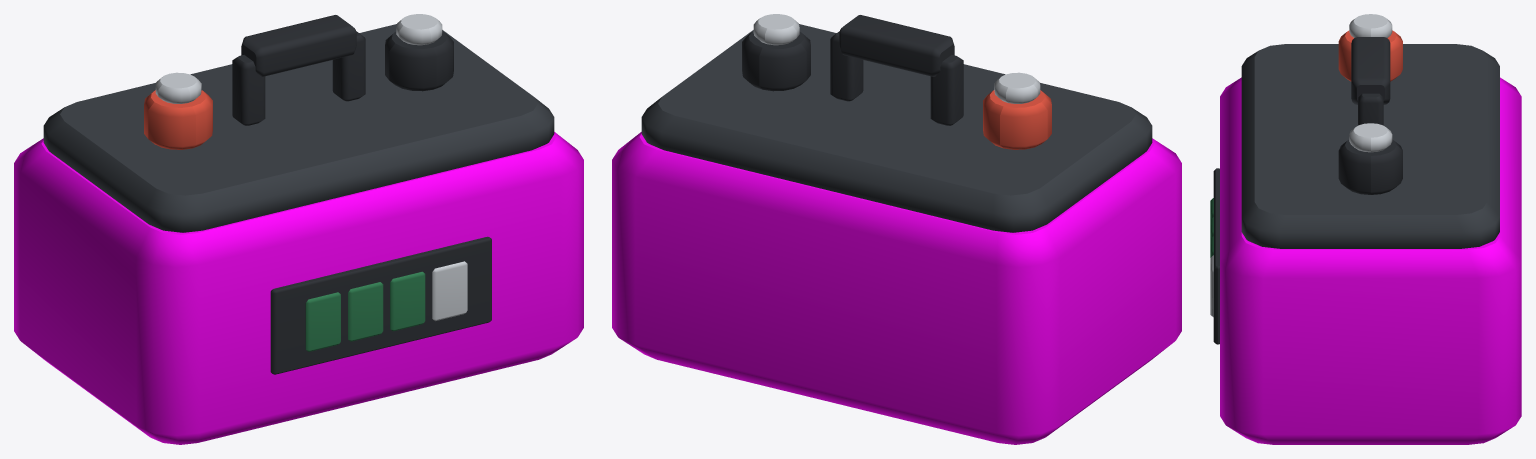
The model's file is objet_batterie_lithium.glb.
3 renders of one model, left to right at view 1: azimuth 30°, elevation 25°; view 2: azimuth 150°, elevation 25°; view 3: azimuth 270°, elevation 25°, orthographic. The views are drawn at different scales.
Parts seen in each view (by area): view 1: batterie_teinte.002, batterie_teinte_sombre.002, batterie_composant.002, batterie_pcb_vert.002, batterie_composant_clair.002, batterie_led_rouge.002; view 2: batterie_teinte.002, batterie_teinte_sombre.002, batterie_composant.002, batterie_led_rouge.002, batterie_composant_clair.002; view 3: batterie_teinte.002, batterie_teinte_sombre.002, batterie_composant.002, batterie_composant_clair.002, batterie_led_rouge.002.
Part boxes in pixels (x1,y1,x2,y2): batterie_teinte.002: (14, 132, 583, 444); batterie_teinte_sombre.002: (43, 24, 554, 232); batterie_composant.002: (232, 15, 491, 374); batterie_pcb_vert.002: (305, 271, 425, 351); batterie_composant_clair.002: (155, 14, 467, 320); batterie_led_rouge.002: (144, 90, 212, 149); batterie_teinte.002: (612, 132, 1181, 444); batterie_teinte_sombre.002: (641, 24, 1152, 232); batterie_composant.002: (742, 15, 963, 125); batterie_led_rouge.002: (983, 90, 1051, 149); batterie_composant_clair.002: (753, 14, 1040, 103); batterie_teinte.002: (1220, 77, 1521, 444); batterie_teinte_sombre.002: (1241, 44, 1499, 248); batterie_composant.002: (1213, 37, 1402, 344); batterie_composant_clair.002: (1210, 14, 1392, 317); batterie_led_rouge.002: (1338, 30, 1402, 81).
Bounding box in the file's own units: 0.22 × 0.152 × 0.1445.
